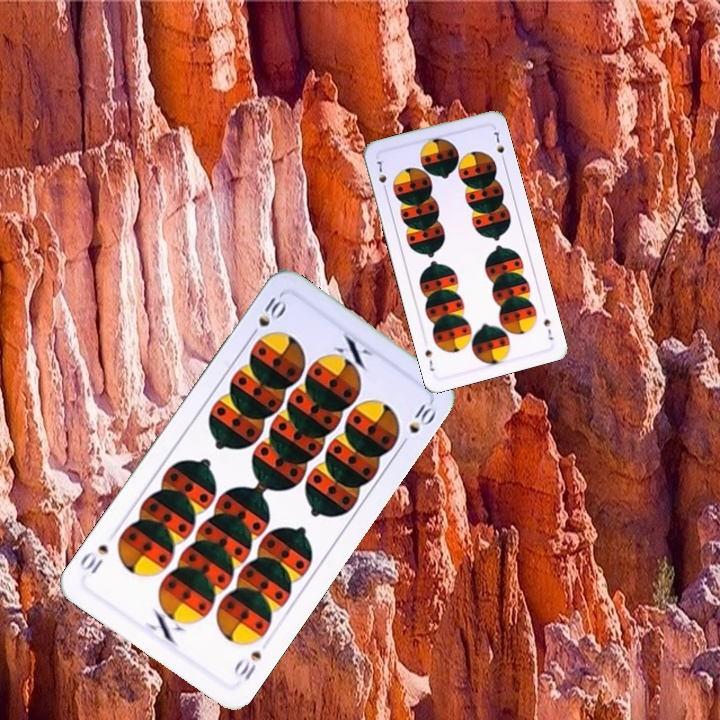S10: (245, 291, 289, 342), (229, 647, 264, 683)
S7: (373, 155, 389, 195), (539, 315, 556, 343)
